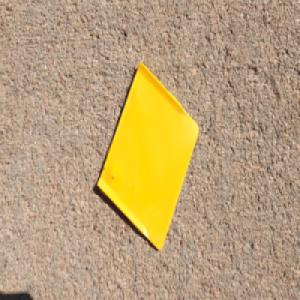PlasticPart: (95, 57, 199, 251)
